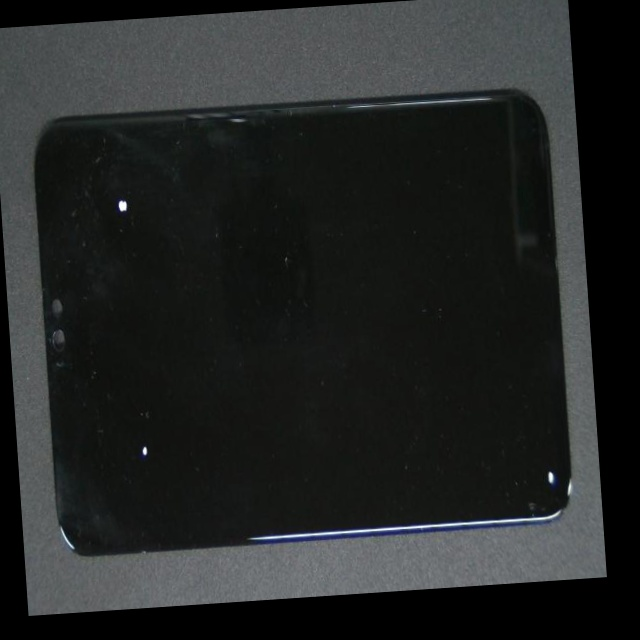stain: (261, 178, 607, 599), (67, 205, 206, 612), (59, 82, 179, 279)
